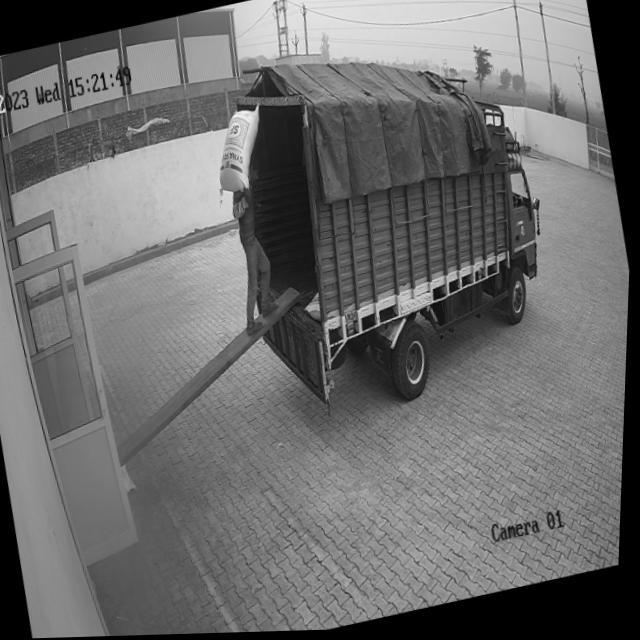sack: (206, 104, 275, 198)
